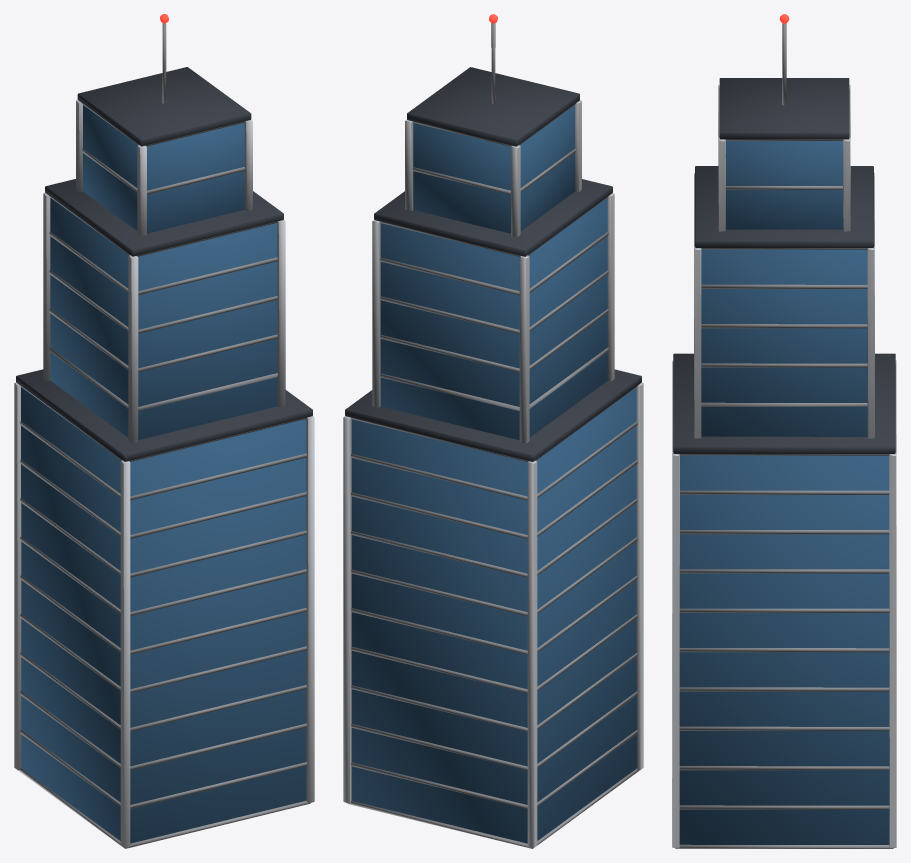
File: ct_tower_lod.glb
3 renders of one model, left to right at view 1: azimuth 30°, elevation 25°; view 2: azimuth 150°, elevation 25°; view 3: azimuth 270°, elevation 25°, orthographic. The views are drawn at different scales.
Visible parts, largest first — view 1: ct_tower_lod; view 2: ct_tower_lod; view 3: ct_tower_lod.
Boxes of the visible parts, box(x1,y1,x2,y2) form: ct_tower_lod: box(14, 14, 314, 848); ct_tower_lod: box(343, 14, 643, 848); ct_tower_lod: box(672, 14, 896, 848).
Size of the model in its own units: 8.3 by 32.06 by 8.28.
